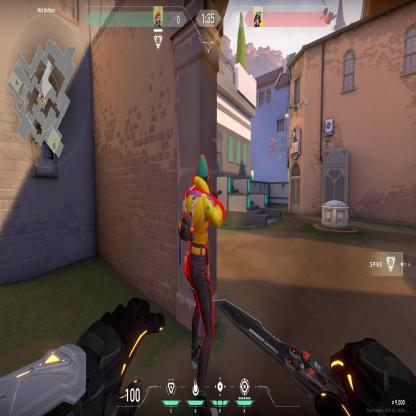enemy: (176, 149, 226, 375)
